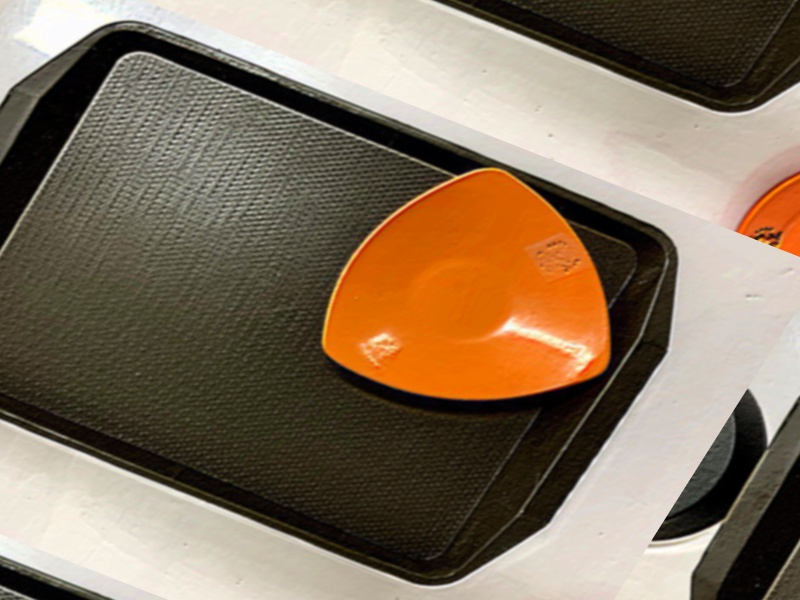dish11: (283, 135, 696, 461)
